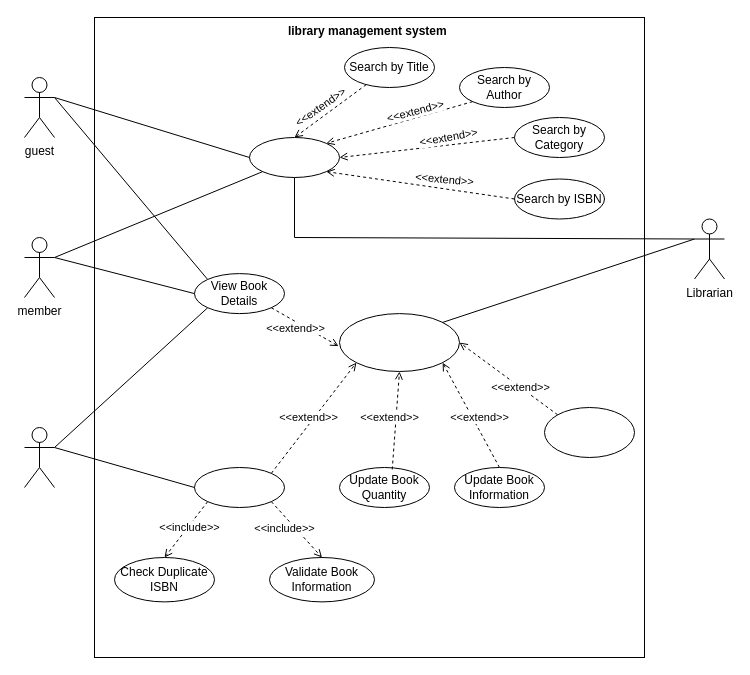
The diagram is 750 pixels wide and 675 high, and some of its shapes have lost their labels. The shapes that lost their labels are listed below. From the top down, each one's centre as x and y in pixels, then its label:
At point 294,157: "Search books".
At point 399,342: "Book management".
At point 589,432: "Remove Book".
At point 39,457: "Admin".
At point 239,487: "Add New Book".
